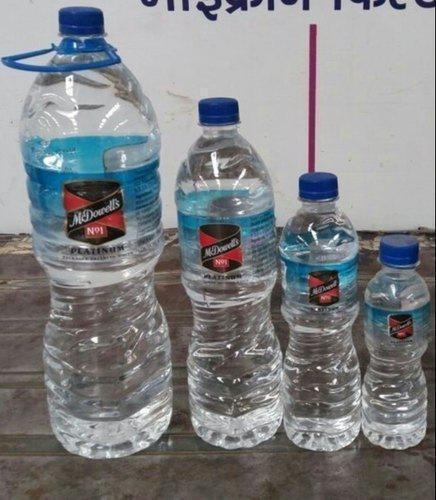bottle-plastic: (16, 6, 169, 462), (171, 98, 283, 457), (275, 170, 363, 455), (359, 233, 434, 448)
